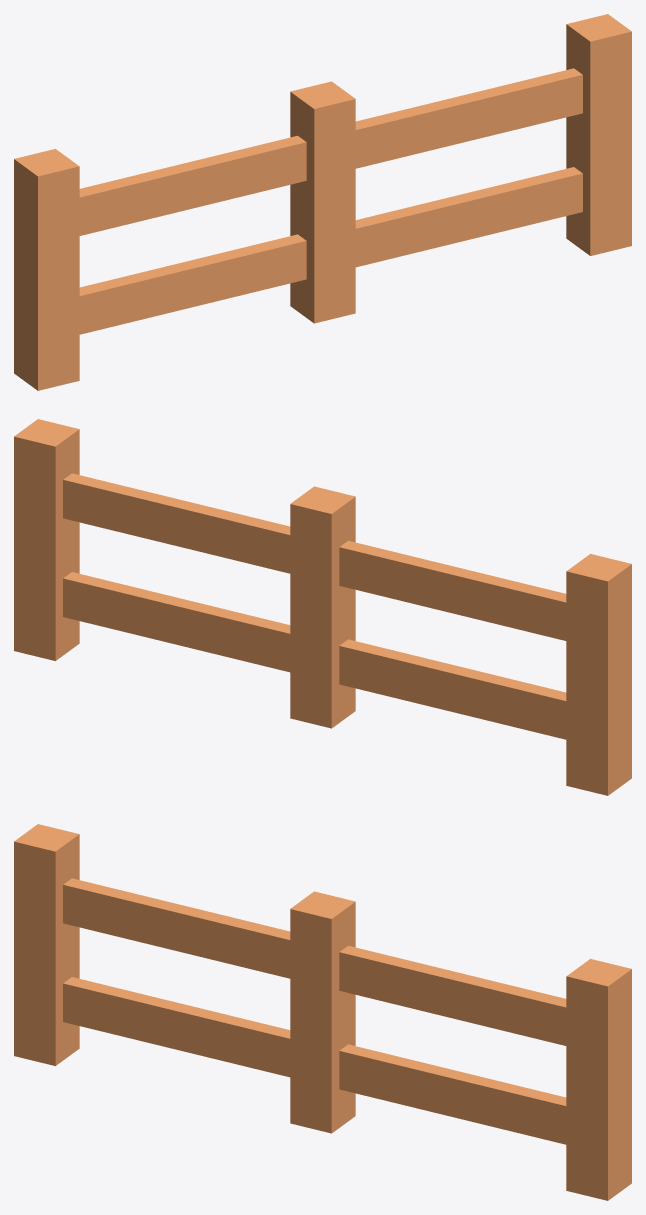
The model's file is fence_strong.fbx.
3 renders of one model, top to bottom at view 1: azimuth 30°, elevation 25°; view 2: azimuth 150°, elevation 25°; view 3: azimuth 330°, elevation 25°, orthographic.
Visible parts, largest first — view 1: fence_strong; view 2: fence_strong; view 3: fence_strong.
Boxes of the visible parts, x1=… form: fence_strong: x1=14, y1=14, x2=631, y2=390; fence_strong: x1=14, y1=419, x2=631, y2=795; fence_strong: x1=14, y1=824, x2=631, y2=1200.
Size of the model in its own units: 10 by 3.45 by 0.7.
